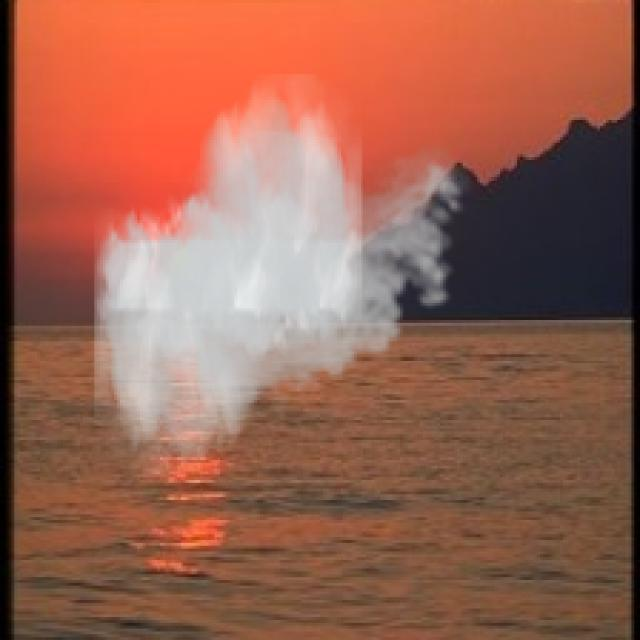Smoke: (94, 74, 474, 477)
